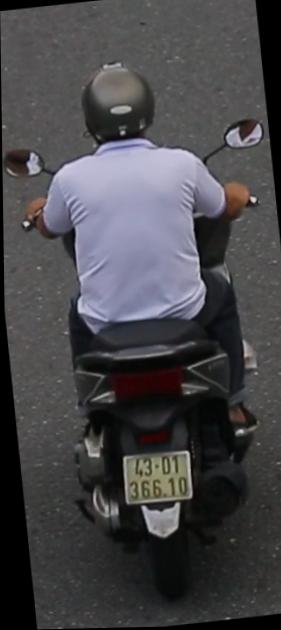LP: (116, 444, 195, 514)
helmet: (66, 52, 174, 165)
